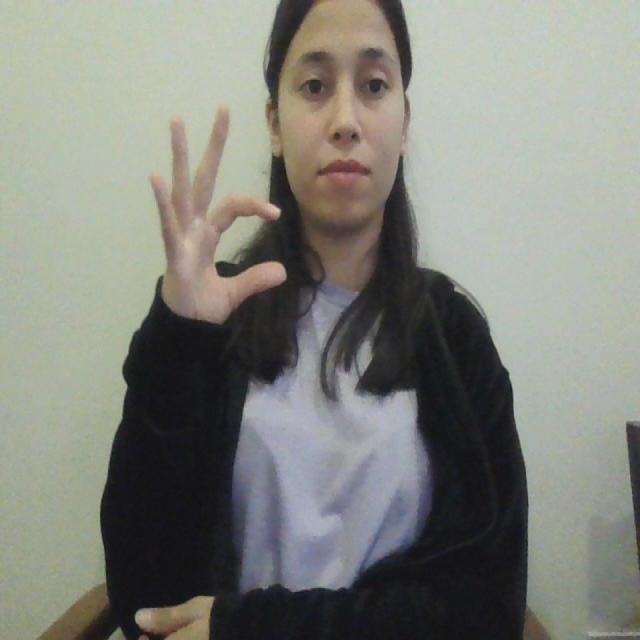Tuvalet: (136, 92, 317, 345)
